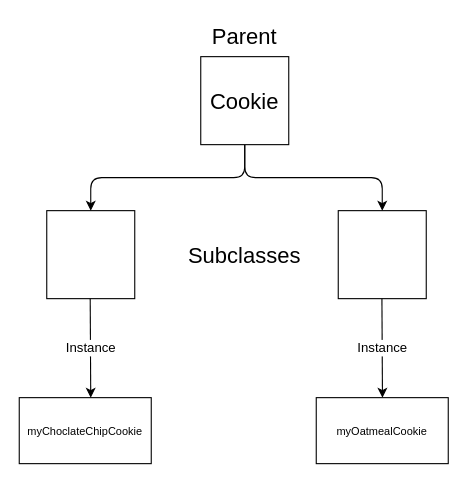
Some shapes in this 468 by 483 pixel diagram are drawn without their labels. Each missing label, with the centre of its shape:
"Choclate Chip Cookie" goes at (90,254).
"Oatmeal Cookei" goes at (381,254).
